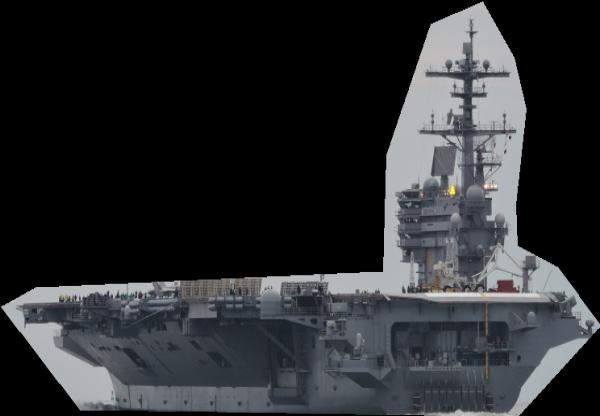Aircraft Carrier: (1, 1, 600, 416)
